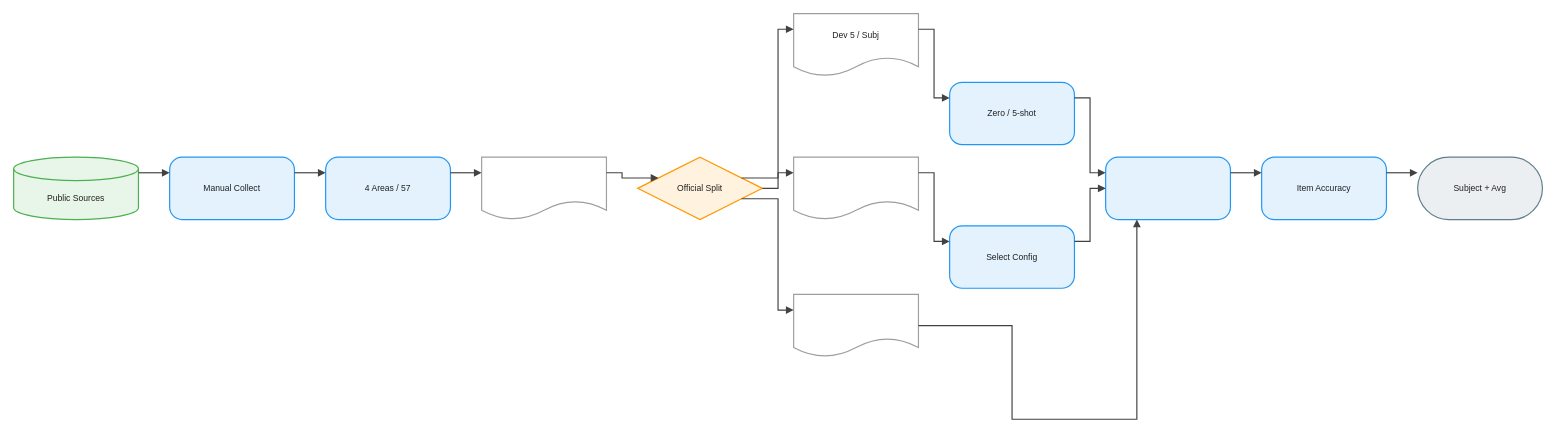
This 1557x440 diagram has some shape labels left out. Here are the shapes that lost their labels. From the top down, the centre of each, then its label:
At point (544, 188): "15,908 MCQs".
At point (856, 188): "Val 1,540".
At point (1168, 188): "Choose A–D".
At point (856, 325): "Test 14,079".
